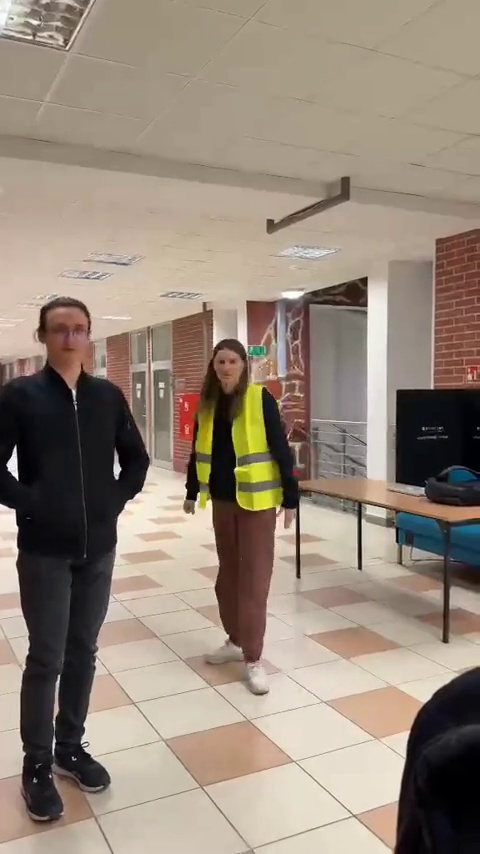no vest: (3, 298, 157, 815)
vest: (183, 329, 305, 698)
